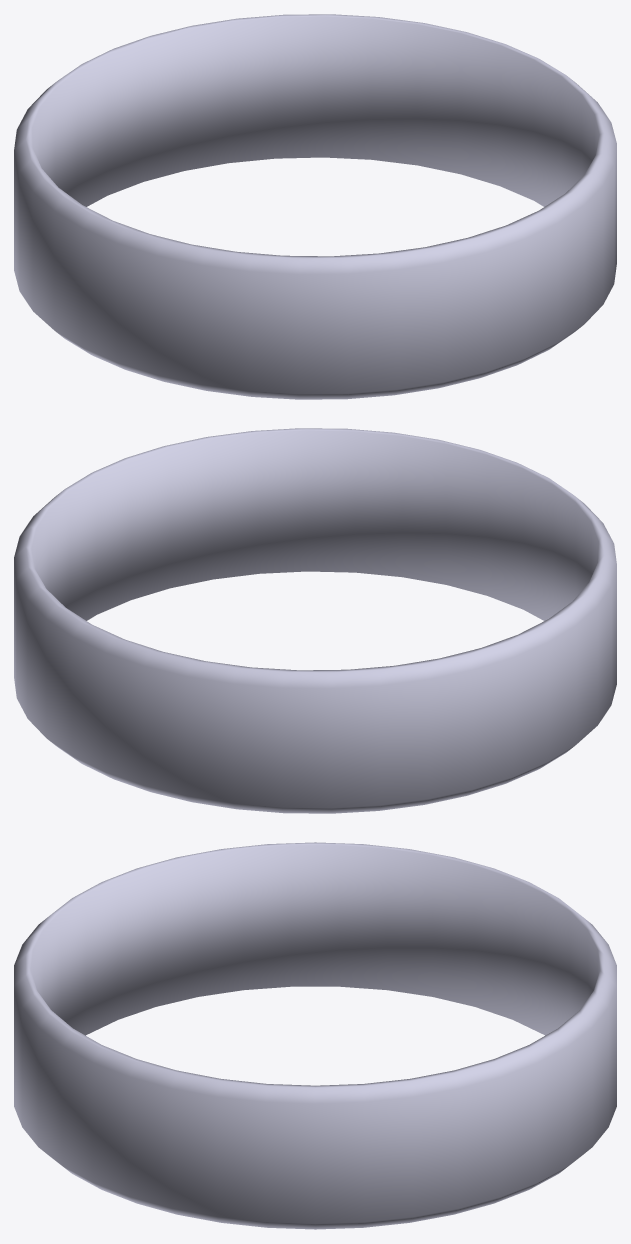
The model's file is ring_big.dae.
3 renders of one model, top to bottom at view 1: azimuth 30°, elevation 25°; view 2: azimuth 150°, elevation 25°; view 3: azimuth 270°, elevation 25°, orthographic.
Visible parts, largest first — view 1: Ring Big; view 2: Ring Big; view 3: Ring Big.
Boxes of the visible parts, x1=… form: Ring Big: x1=14, y1=14, x2=616, y2=399; Ring Big: x1=14, y1=428, x2=616, y2=813; Ring Big: x1=14, y1=842, x2=616, y2=1229.
Size of the model in its own units: 0.0892 by 0.0889 by 0.023.
